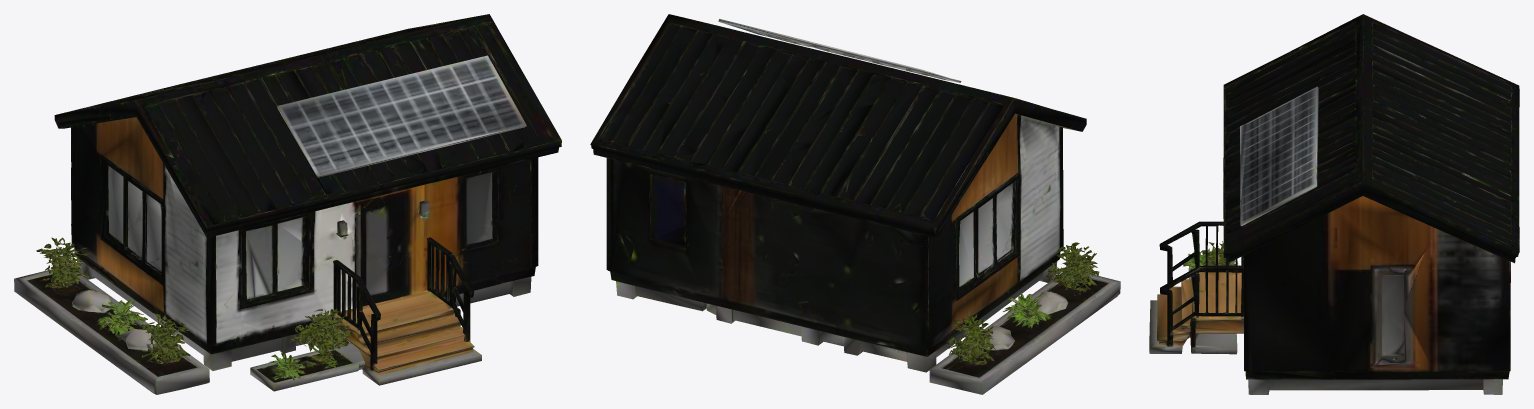
The model's file is finished-lite.glb.
3 views of the same model, side by side, from view 1: azimuth 30°, elevation 25°; view 2: azimuth 150°, elevation 25°; view 3: azimuth 270°, elevation 25° (orthographic). The views are drawn at different scales.
Parts seen in each view (by area): view 1: world; view 2: world; view 3: world.
Boxes of the visible parts, bbox=[...] form: world: bbox=[14, 14, 561, 394]; world: bbox=[590, 14, 1120, 394]; world: bbox=[1149, 14, 1519, 394].
Size of the model in its own units: 1 by 0.5703 by 0.8351.
1 material, 1 textured.
